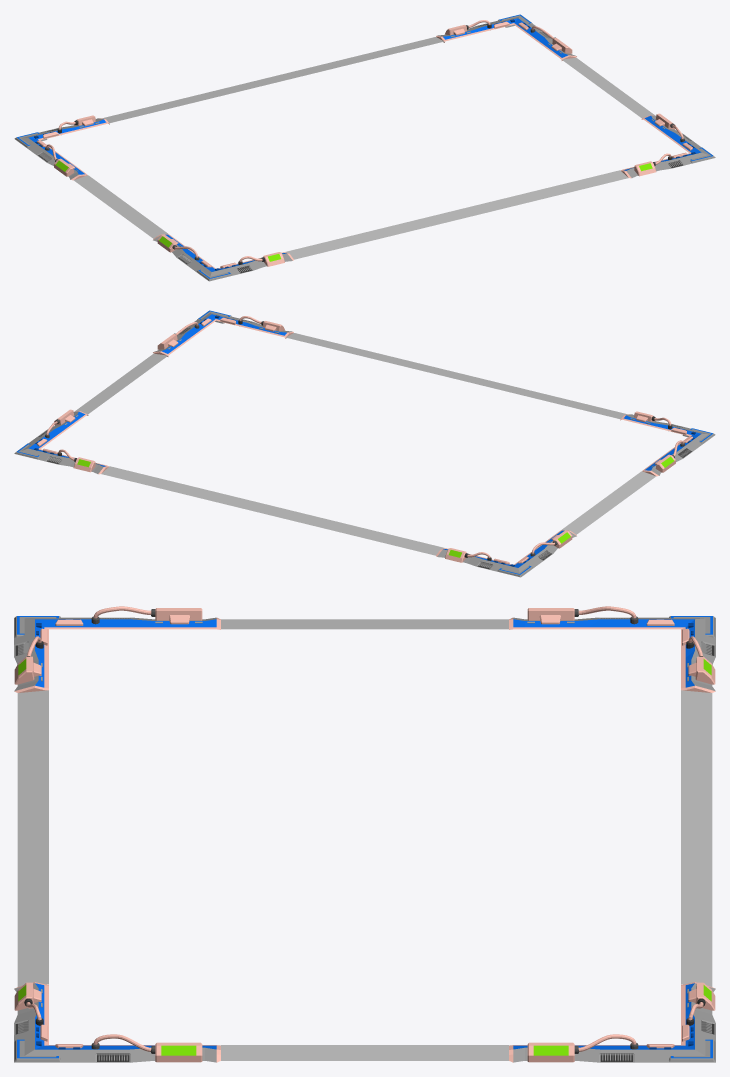
File: 158_NFT_Display_-_12x8.fbx
3 views of the same model, one above another, from view 1: azimuth 30°, elevation 25°; view 2: azimuth 150°, elevation 25°; view 3: azimuth 270°, elevation 25° (orthographic). The views are drawn at different scales.
Visible parts, largest first — view 1: NFT_basic_8x8; view 2: NFT_basic_8x8; view 3: NFT_basic_8x8.
Boxes of the visible parts, x1,y1,x2,y2 form: NFT_basic_8x8: [14, 14, 715, 281]; NFT_basic_8x8: [14, 310, 715, 577]; NFT_basic_8x8: [14, 606, 715, 1062].
Bounding box in the file's own units: 1200 × 24.25 × 800.
